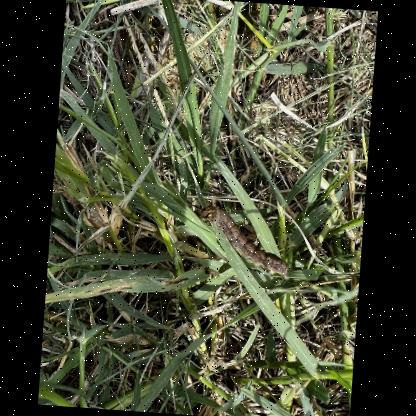Fall Armyworm Larvae: (190, 204, 298, 282)
